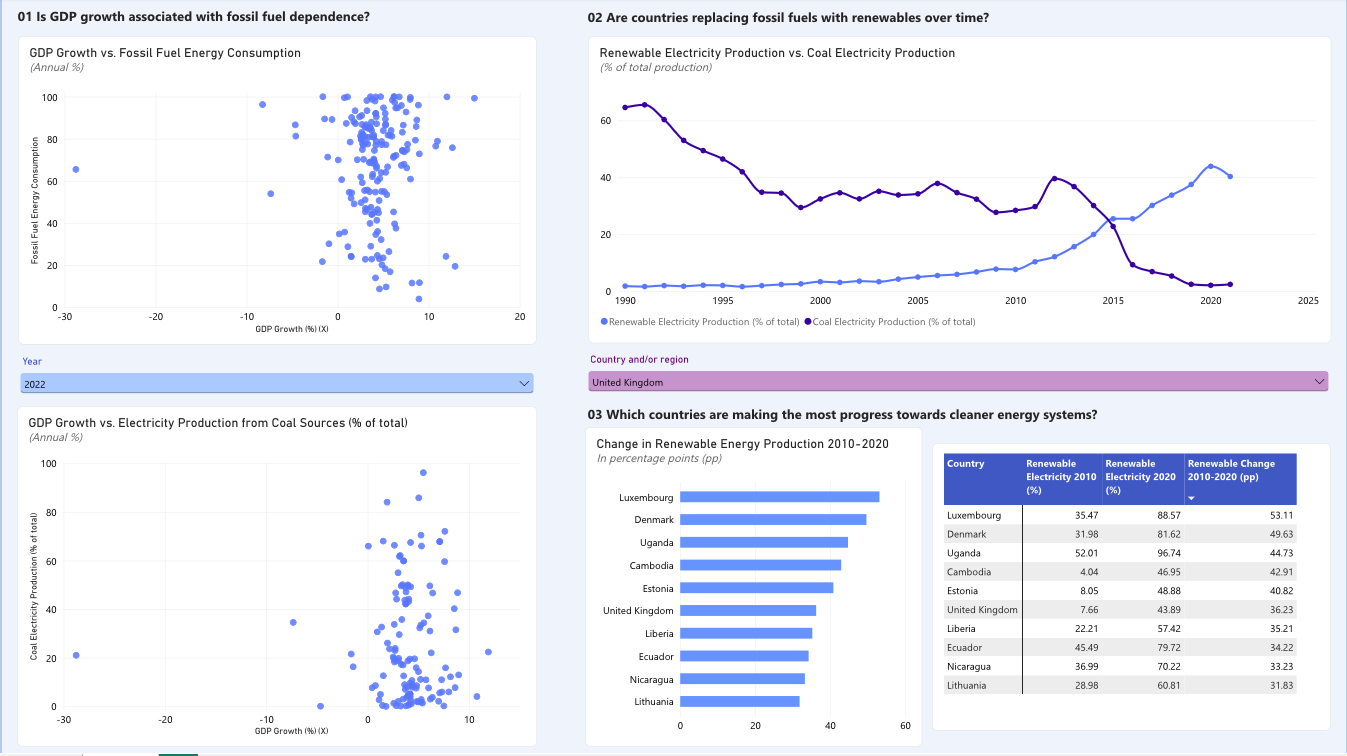

What the dashboard file says about the page in this screenshot:
{"tool":"powerbi","page":{"name":"Page 1","canvas":[1920,1080],"ordinal":0},"visuals":[{"type":"textbox","box":[22.3,14.9,753.7,40.2],"z":0},{"type":"slicer","fields":{"Values":["WB_ESG.TIME_PERIOD"]},"box":[20.9,513.9,743.3,70],"z":1000},{"type":"scatterChart","title":"GDP Growth vs. Fossil Fuel Energy Consumption","fields":{"Category":["WB_ESG.REF_AREA_LABEL"],"X":["WB_ESG.GDP Growth (%) (X)"],"Y":["WB_ESG.Fossil Fuel Energy Consumption"]},"box":[22.3,55.1,741.8,440.9],"z":2000},{"type":"scatterChart","title":"GDP Growth vs. Electricity Production from Coal Sources (% of total)","fields":{"Category":["WB_ESG.REF_AREA_LABEL"],"X":["WB_ESG.GDP Growth (%) (X)"],"Y":["WB_ESG.Coal Electricity Production (% of total)"]},"box":[20.9,583.9,743.3,487.1],"z":3000},{"type":"textbox","box":[1137,25,697.5,42.5],"z":4000},{"type":"lineChart","title":"Renewable Electricity Production vs. Coal Electricity Production ","fields":{"Category":["WB_ESG.TIME_PERIOD"],"Y":["WB_ESG.Renewable Electricity Production  (%  of  total)","WB_ESG.Coal Electricity Production (% of total)"]},"box":[837.1,55.1,1062,439.4],"z":5000},{"type":"textbox","box":[836.7,15,1061.7,35],"z":6000},{"type":"slicer","fields":{"Values":["WB_ESG.REF_AREA_LABEL"]},"box":[832.6,510.9,1068,59.6],"z":7000},{"type":"clusteredBarChart","title":"Change in Renewable Energy Production 2010-2020","fields":{"Category":["WB_ESG.REF_AREA_LABEL"],"Y":["WB_ESG.Renewable Change 2010-2020 (pp)"]},"box":[832.9,614.3,482.6,457.3],"z":8000},{"type":"pivotTable","fields":{"Rows":["WB_ESG.REF_AREA_LABEL"],"Values":["WB_ESG.Renewable Electricity 2010 (%)","WB_ESG.Renewable Electricity 2020 (%)","WB_ESG.Renewable Change 2010-2020 (pp)"]},"box":[1328.7,637.5,570.5,411.1],"z":9000},{"type":"textbox","box":[100,100,300,300],"z":10000},{"type":"textbox","box":[836.7,583.3,1063.3,31.7],"z":10001}]}

Visuals, with their boxes in screenshot pixels (x1, y1, x2, y2), scaled from the page's 1920x1080 canvas onto the 1347x756 screenshot:
textbox: 16, 10, 544, 39
slicer - WB_ESG.TIME_PERIOD: 15, 360, 536, 409
"GDP Growth vs. Fossil Fuel Energy Consumption" scatterChart: 16, 39, 536, 347
"GDP Growth vs. Electricity Production from Coal Sources (% of total)" scatterChart: 15, 409, 536, 750
textbox: 798, 18, 1287, 47
"Renewable Electricity Production vs. Coal Electricity Production " lineChart: 587, 39, 1332, 346
textbox: 587, 10, 1332, 35
slicer - WB_ESG.REF_AREA_LABEL: 584, 358, 1333, 399
"Change in Renewable Energy Production 2010-2020" clusteredBarChart: 584, 430, 923, 750
pivotTable - WB_ESG.REF_AREA_LABEL x WB_ESG.Renewable Electricity 2010 (%): 932, 446, 1332, 734
textbox: 70, 70, 281, 280
textbox: 587, 408, 1333, 430
